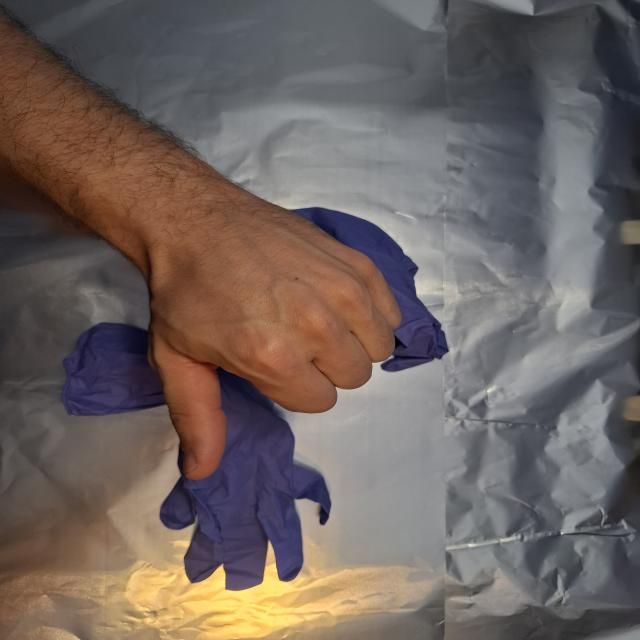glove_off: (142, 208, 406, 482)
